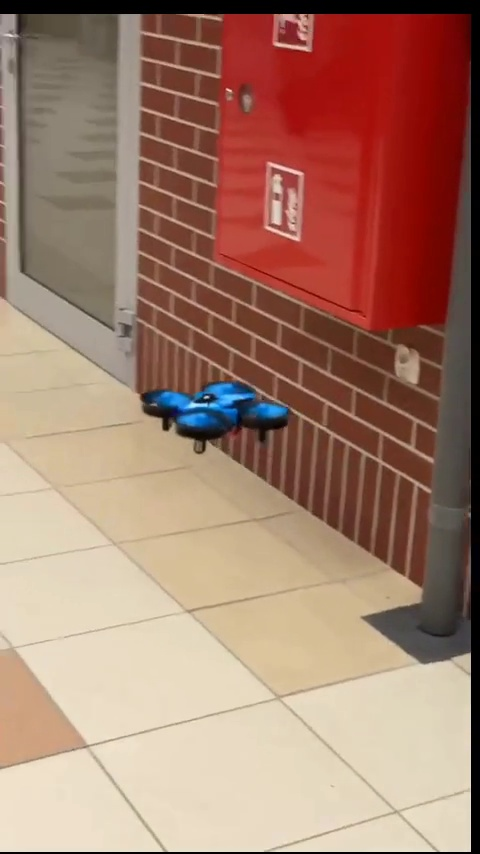drone: (144, 380, 284, 452)
